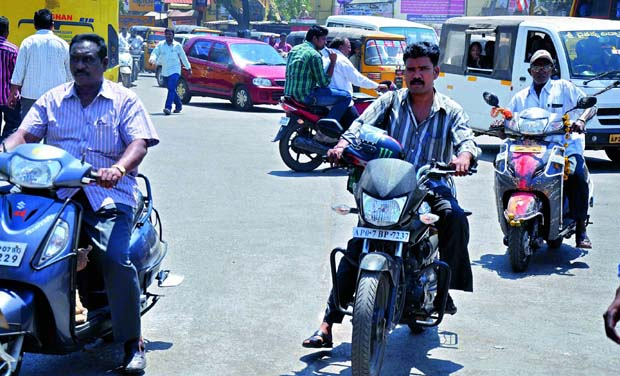noh: (68, 34, 110, 102), (401, 43, 441, 102), (528, 51, 555, 97)
plate: (353, 227, 412, 246), (1, 244, 28, 269)
tw: (1, 139, 166, 376), (333, 143, 454, 376), (491, 102, 595, 276)
